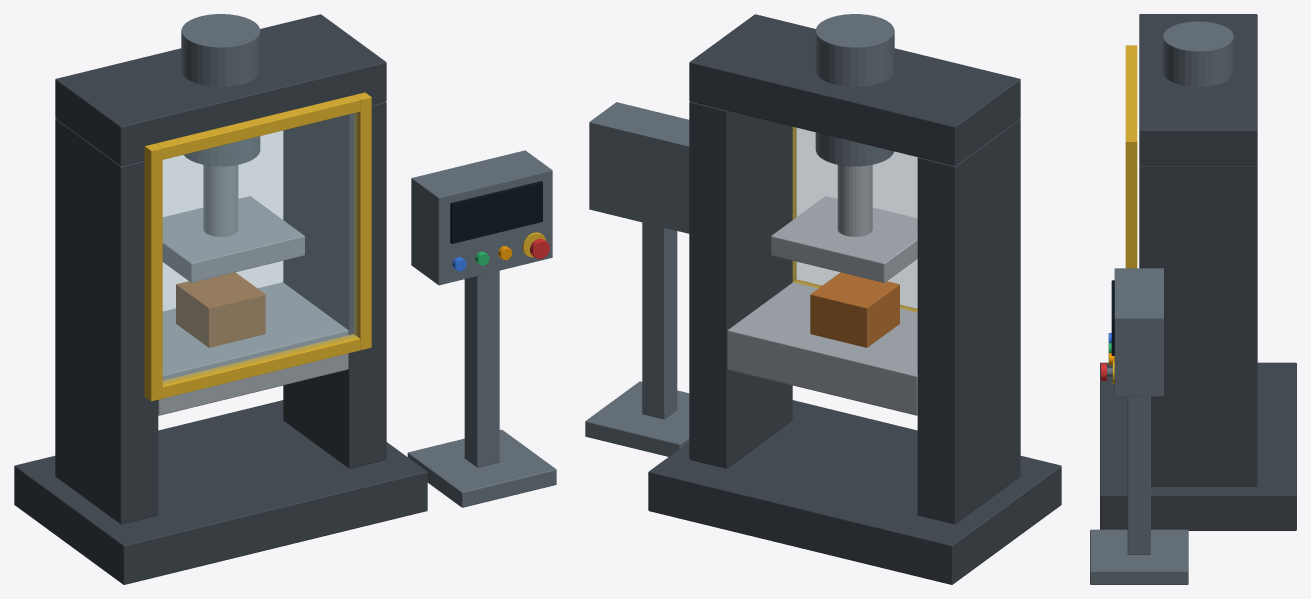
The model's file is IndustrialPress.fbx.
The picture shows the model from 3 angles, left to right: view 1: azimuth 30°, elevation 25°; view 2: azimuth 150°, elevation 25°; view 3: azimuth 270°, elevation 25°; orthographic projection. The views are drawn at different scales.
Visible parts, largest first — view 1: Safety_Glass, Press_Base, Press_Frame_Left, Press_Frame_Right, Press_Frame_Top, Control_Panel, Worktable, Press_Plate, Control_Stand, Hydraulic_Cylinder, Control_Base, Workpiece (+6 smaller); view 2: Press_Base, Press_Frame_Left, Press_Frame_Right, Press_Frame_Top, Worktable, Control_Panel, Press_Plate, Hydraulic_Cylinder, Safety_Glass, Control_Stand, Workpiece, Control_Base (+1 smaller); view 3: Press_Frame_Right, Press_Base, Press_Frame_Top, Control_Panel, Control_Base, Hydraulic_Cylinder, Control_Stand, Safety_Frame_Right, Safety_Frame_Top, Control_Display.
Part boxes in pixels (x1=…): Safety_Glass: x1=163, y1=113, x2=357, y2=383; Press_Base: x1=14, y1=400, x2=427, y2=584; Press_Frame_Left: x1=55, y1=119, x2=158, y2=524; Press_Frame_Right: x1=283, y1=101, x2=386, y2=468; Press_Frame_Top: x1=55, y1=14, x2=386, y2=165; Control_Panel: x1=411, y1=150, x2=552, y2=285; Worktable: x1=158, y1=282, x2=348, y2=415; Press_Plate: x1=162, y1=196, x2=304, y2=282; Control_Stand: x1=464, y1=270, x2=499, y2=467; Hydraulic_Cylinder: x1=181, y1=14, x2=260, y2=166; Control_Base: x1=407, y1=429, x2=556, y2=507; Workpiece: x1=176, y1=272, x2=265, y2=347; Press_Base: x1=648, y1=400, x2=1061, y2=584; Press_Frame_Left: x1=917, y1=119, x2=1020, y2=524; Press_Frame_Right: x1=689, y1=101, x2=792, y2=468; Press_Frame_Top: x1=689, y1=14, x2=1020, y2=165; Worktable: x1=727, y1=282, x2=917, y2=415; Control_Panel: x1=589, y1=102, x2=689, y2=233; Press_Plate: x1=771, y1=196, x2=917, y2=282; Hydraulic_Cylinder: x1=815, y1=14, x2=894, y2=166; Safety_Glass: x1=793, y1=127, x2=917, y2=311; Control_Stand: x1=642, y1=222, x2=677, y2=419; Workpiece: x1=810, y1=272, x2=899, y2=347; Control_Base: x1=585, y1=381, x2=689, y2=456; Press_Frame_Right: x1=1139, y1=165, x2=1257, y2=486; Press_Base: x1=1100, y1=362, x2=1296, y2=530; Press_Frame_Top: x1=1139, y1=14, x2=1257, y2=165; Control_Panel: x1=1114, y1=268, x2=1163, y2=396; Control_Base: x1=1090, y1=529, x2=1188, y2=584; Hydraulic_Cylinder: x1=1163, y1=21, x2=1233, y2=86; Control_Stand: x1=1127, y1=396, x2=1150, y2=554; Safety_Frame_Right: x1=1125, y1=136, x2=1137, y2=268; Safety_Frame_Top: x1=1125, y1=50, x2=1137, y2=136; Control_Display: x1=1111, y1=280, x2=1114, y2=355.
Size of the model in its own units: 230 by 240 by 105.
